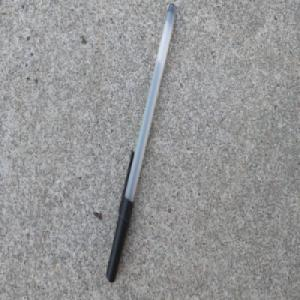Pen: (105, 0, 179, 285)
